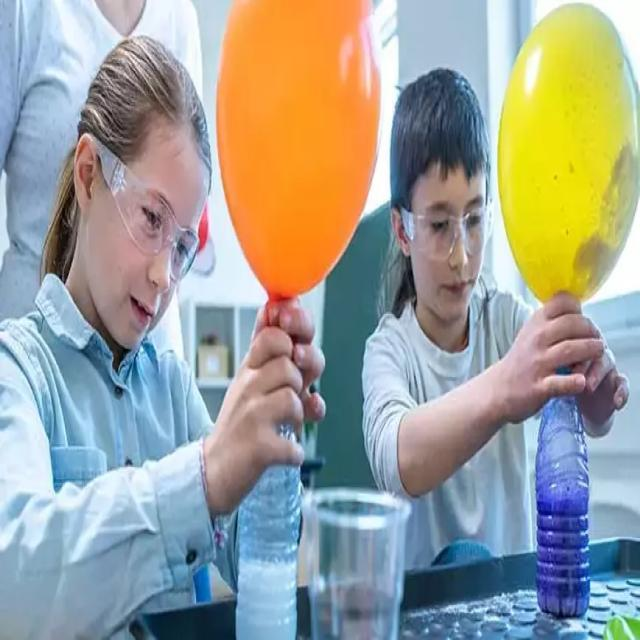balloon: (210, 2, 385, 293), (496, 3, 640, 299)
